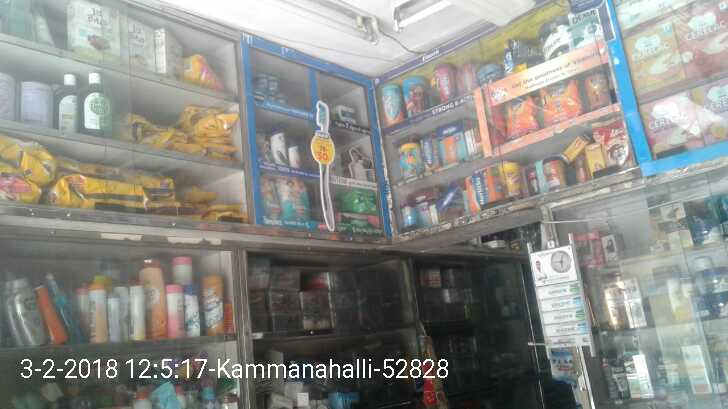beauty: (266, 123, 288, 167), (333, 100, 361, 128), (286, 142, 298, 169)
pharmacy: (277, 175, 316, 221), (331, 211, 380, 228), (346, 190, 378, 212), (257, 72, 279, 91)
